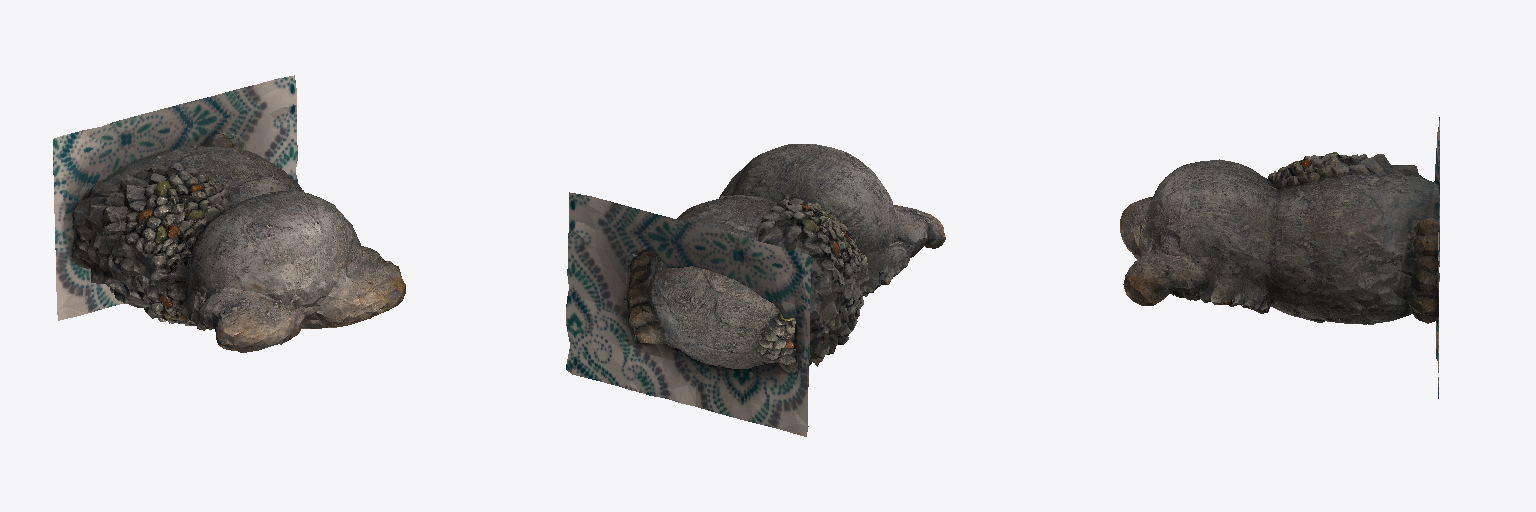
3 renders of one model, left to right at view 1: azimuth 30°, elevation 25°; view 2: azimuth 150°, elevation 25°; view 3: azimuth 270°, elevation 25°, orthographic.
Visible parts, largest first — view 1: texture_0; view 2: texture_0; view 3: texture_0.
Part boxes in pixels (x1,y1,x2,y2): texture_0: (53, 75, 405, 352); texture_0: (566, 144, 945, 436); texture_0: (1120, 117, 1439, 398).
Size of the model in its own units: 0.2734 by 0.1998 by 0.3076.
1 materials, 1 textured.